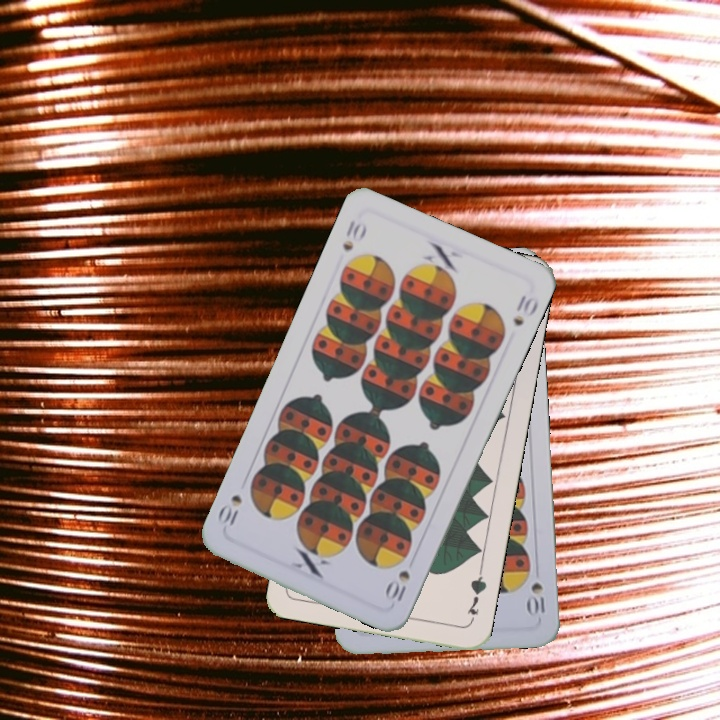G7: (463, 566, 489, 625)
S10: (338, 215, 370, 254), (382, 565, 413, 604), (524, 578, 548, 619)
